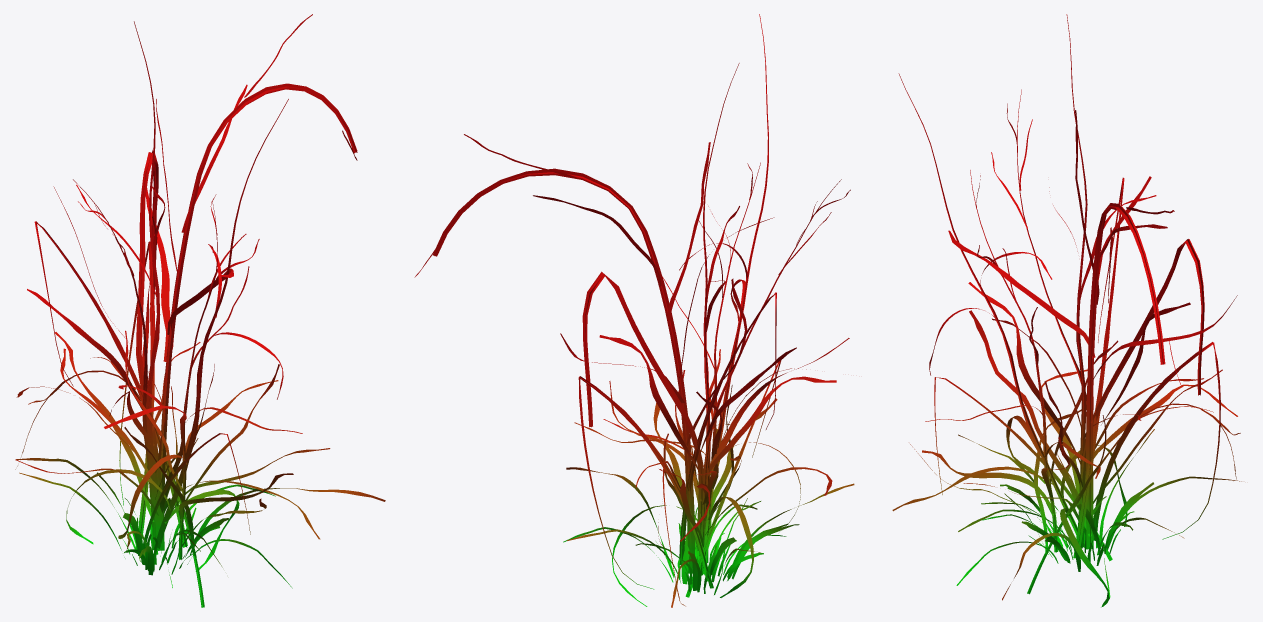
File: Swamp Grass_LOD1_Var5_tefocd1r.fbx
3 renders of one model, left to right at view 1: azimuth 30°, elevation 25°; view 2: azimuth 150°, elevation 25°; view 3: azimuth 270°, elevation 25°, orthographic. The views are drawn at different scales.
Visible parts, largest first — view 1: merge1; view 2: merge1; view 3: merge1.
Part boxes in pixels (left/top/right/bottom): merge1: left=15, top=14, right=385, bottom=607; merge1: left=414, top=14, right=854, bottom=607; merge1: left=892, top=14, right=1241, bottom=607.
Bounding box in the file's own units: 34.78 × 49.83 × 28.84.
